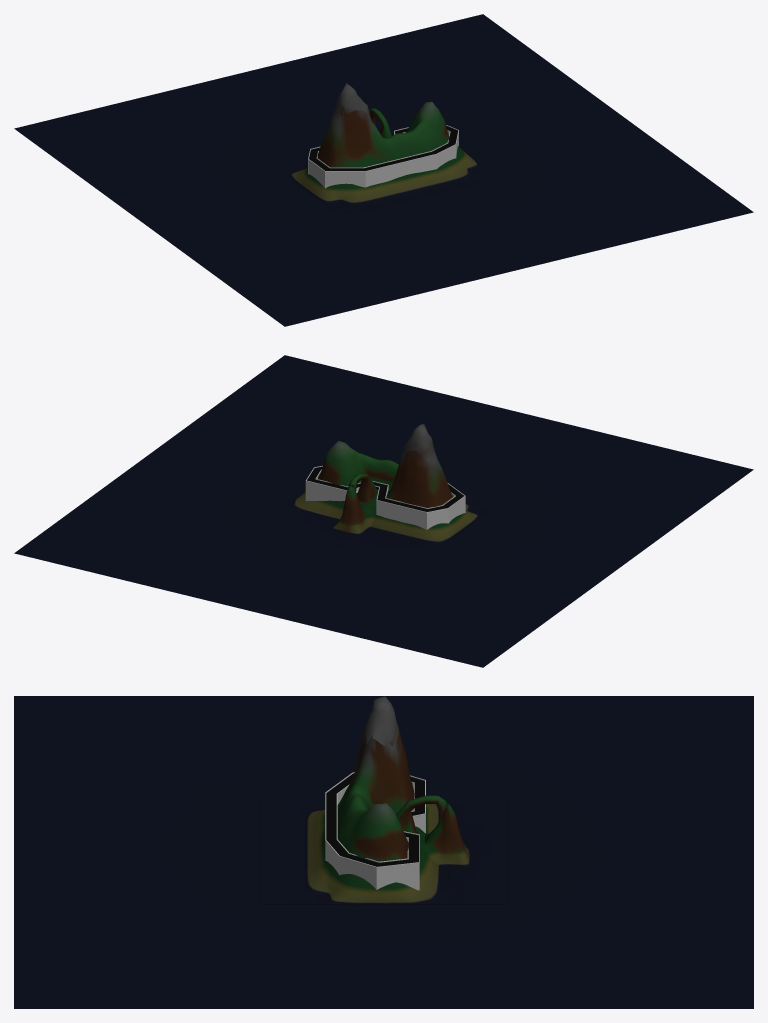
The model's file is racing_mountain5.gltf.
3 renders of one model, top to bottom at view 1: azimuth 30°, elevation 25°; view 2: azimuth 150°, elevation 25°; view 3: azimuth 270°, elevation 25°, orthographic. The views are drawn at different scales.
Visible parts, largest first — view 1: Plane; view 2: Plane; view 3: Plane.
Part boxes in pixels (x1,y1,x2,y2): Plane: (14, 14, 753, 326); Plane: (14, 355, 753, 667); Plane: (14, 696, 753, 1008).
Bounding box in the file's own units: 600 × 118 × 600.
3 materials, 1 textured.
